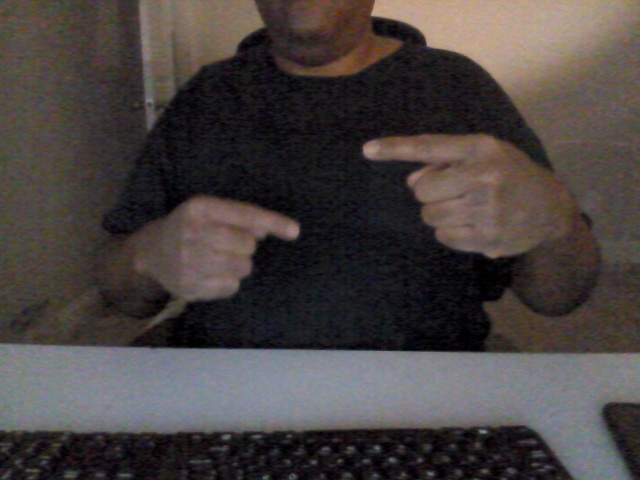go: (150, 132, 549, 304)
